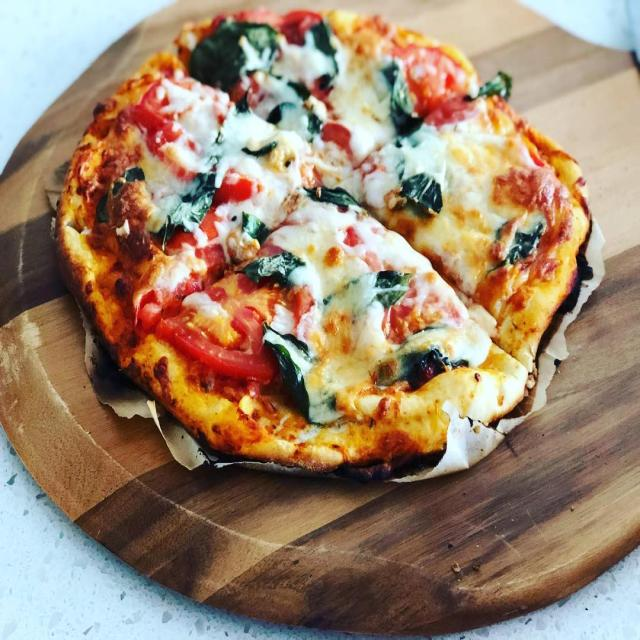basil: (258, 320, 354, 427), (147, 129, 225, 247), (181, 15, 275, 94), (372, 317, 474, 389), (374, 54, 442, 144), (320, 265, 415, 321), (485, 203, 547, 288), (393, 133, 448, 220), (227, 81, 278, 162), (236, 248, 308, 295), (97, 162, 144, 230), (300, 175, 374, 217), (264, 101, 325, 148), (303, 17, 340, 89), (466, 67, 513, 113), (235, 207, 281, 244)
pizza: (50, 0, 594, 476)
tomatoes: (154, 270, 320, 380), (143, 126, 265, 203), (393, 40, 477, 124), (132, 73, 225, 129)
